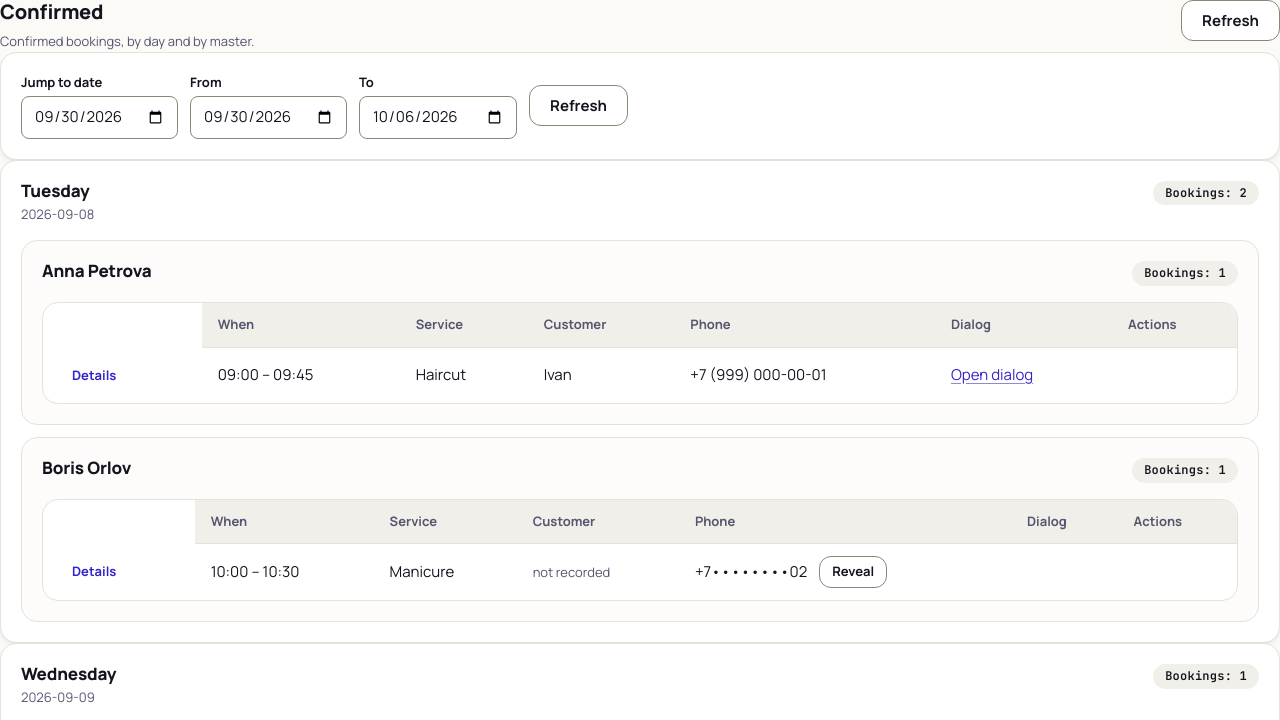
Scenario: confirmed-booking detail panel (26-272) › closes the open detail on Hide details, and only ever keeps one row open at a time
Click the button "Details" in the row of "Ivan" at coordinates (94, 375), box [59, 359, 129, 391]
(page scrolled)
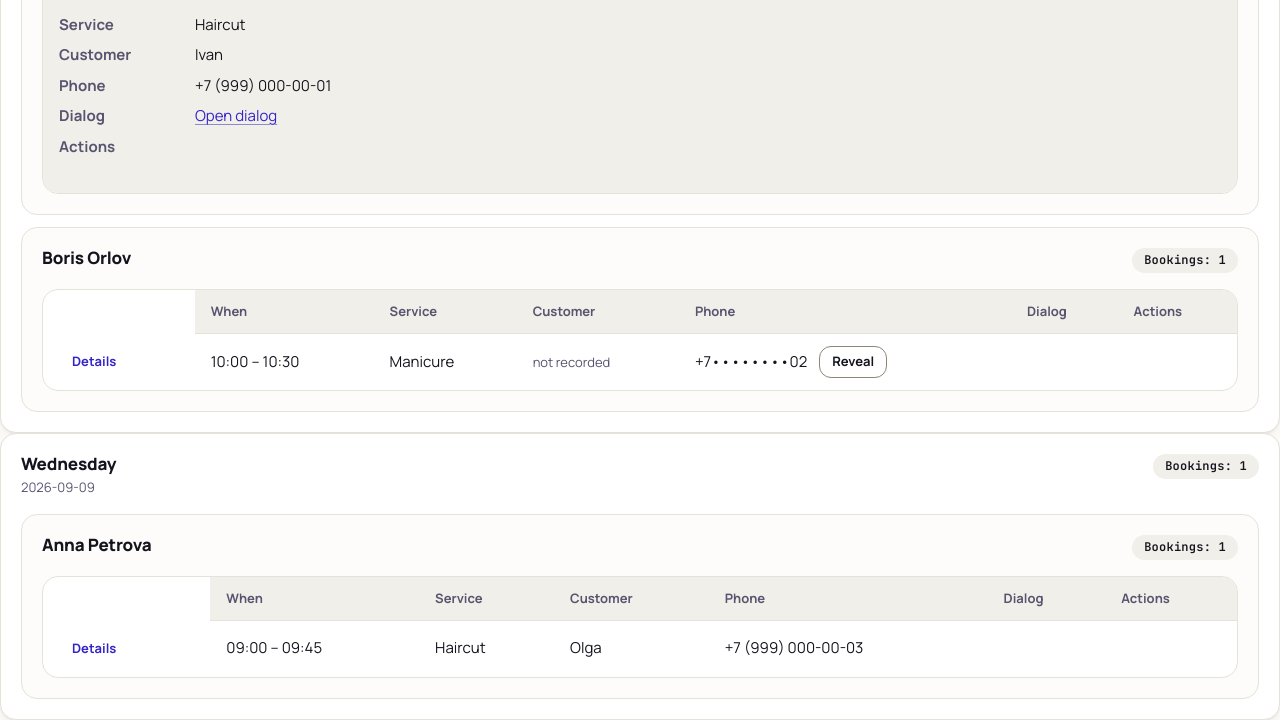
Note: Opening a second row's detail replaces the first, rather than stacking a second one open.
Click the button "Details" next to "10:00" at coordinates (94, 362), box [59, 346, 129, 378]
(page scrolled)
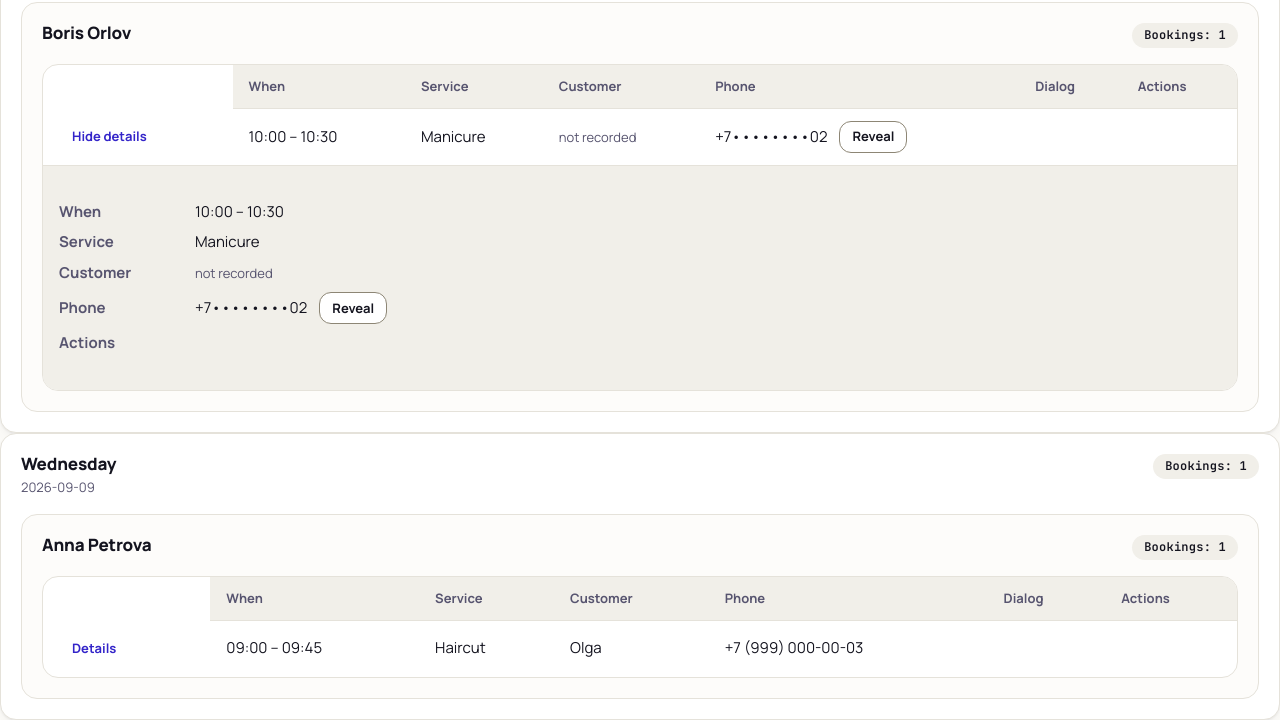
Expected: the number of elements with class "ago-table__detail" is 1, [59, 201, 387, 354]
Click the button "Hide details" at coordinates (109, 137), box [59, 121, 160, 153]
(page scrolled)
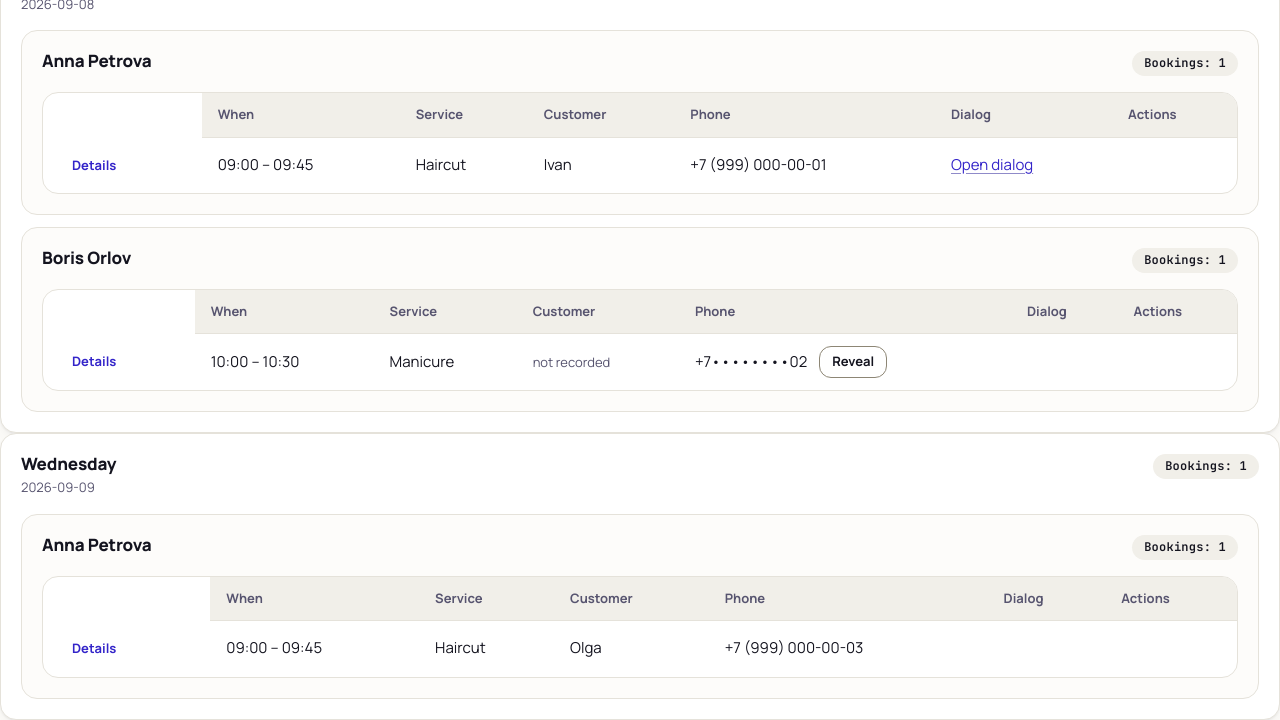
Expected: no elements with class "ago-table__detail" are shown
